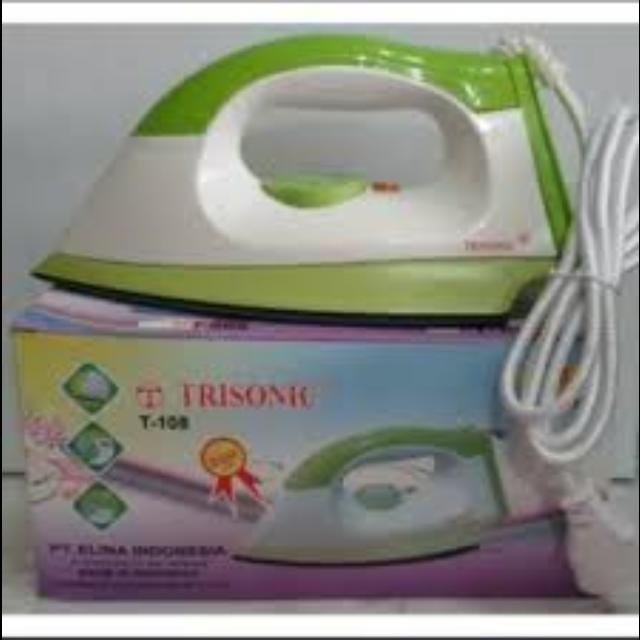Clothes-Iron: (73, 34, 597, 334)
